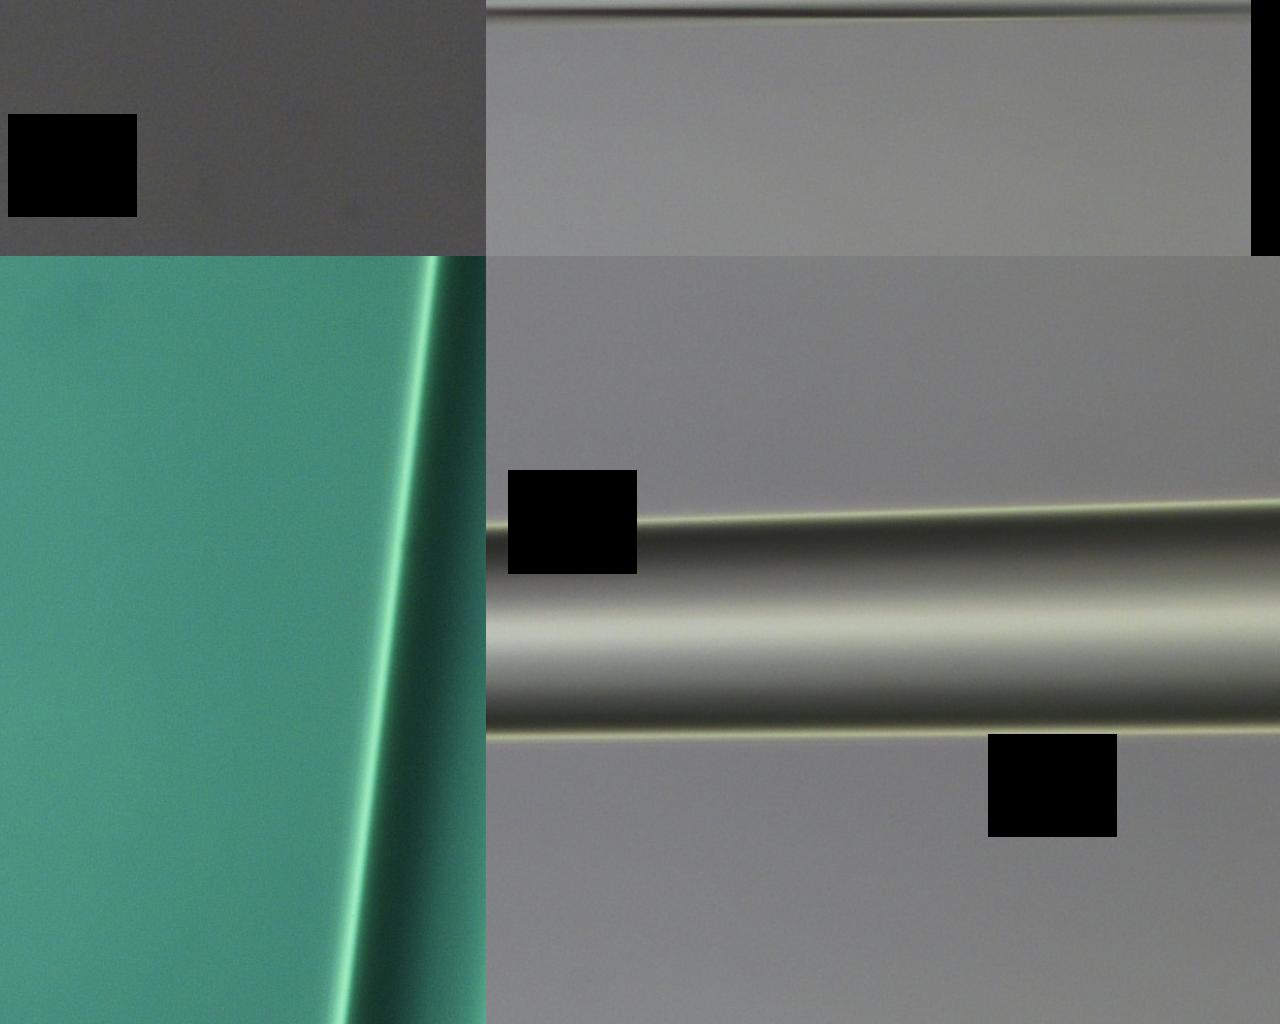fiber: (51, 0, 1280, 810)
